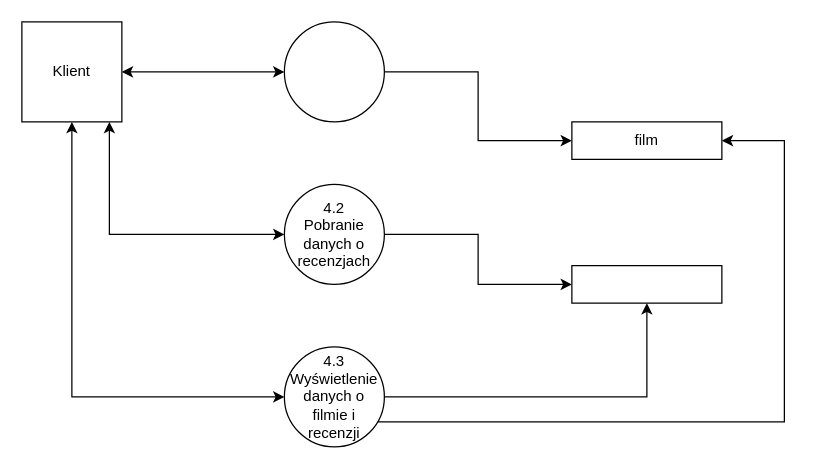
Image size: 816x469. Some labels were removed from this diagram. The centre of each missing label's shape, as x and y in pixels:
4.1 Pobranie danych o filmie: (333,71)
recenzja: (646,283)
